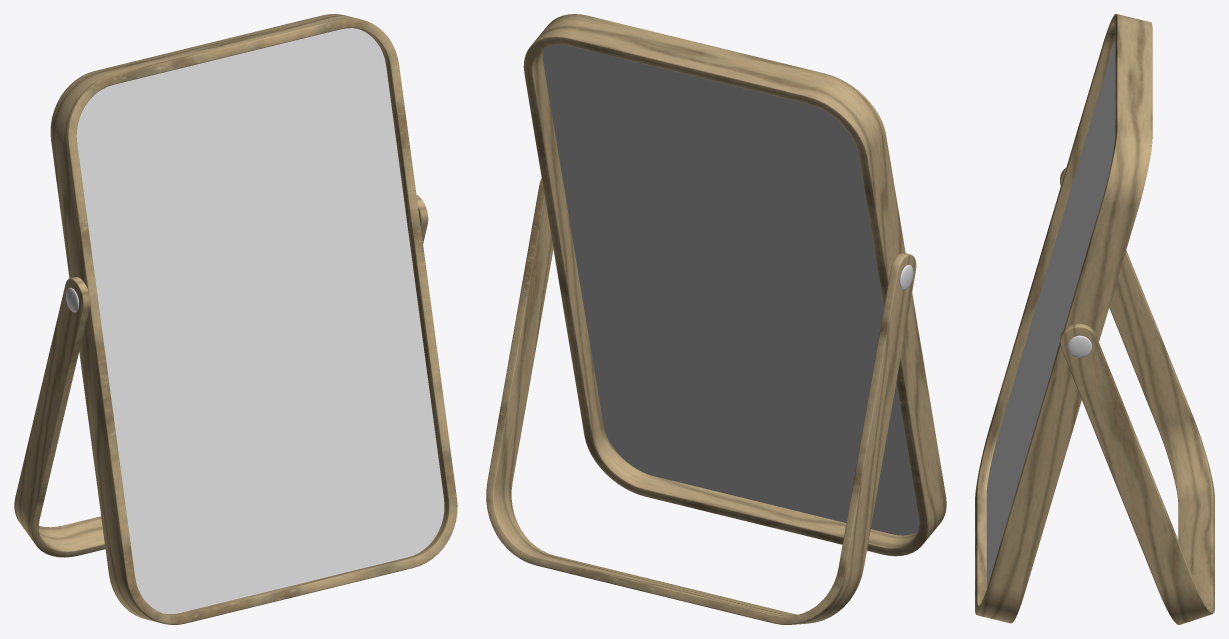
The model's file is desk_mirror.glb.
3 renders of one model, left to right at view 1: azimuth 30°, elevation 25°; view 2: azimuth 150°, elevation 25°; view 3: azimuth 270°, elevation 25°, orthographic. The views are drawn at different scales.
Visible parts, largest first — view 1: Circle.002; view 2: Circle.002; view 3: Circle.002.
Part boxes in pixels (bbox=[...]): Circle.002: bbox=[14, 14, 457, 624]; Circle.002: bbox=[486, 14, 946, 624]; Circle.002: bbox=[975, 14, 1214, 624].
Size of the model in its own units: 0.286 by 0.3934 by 0.1744.
Materials: 1 (1 with a texture image).
